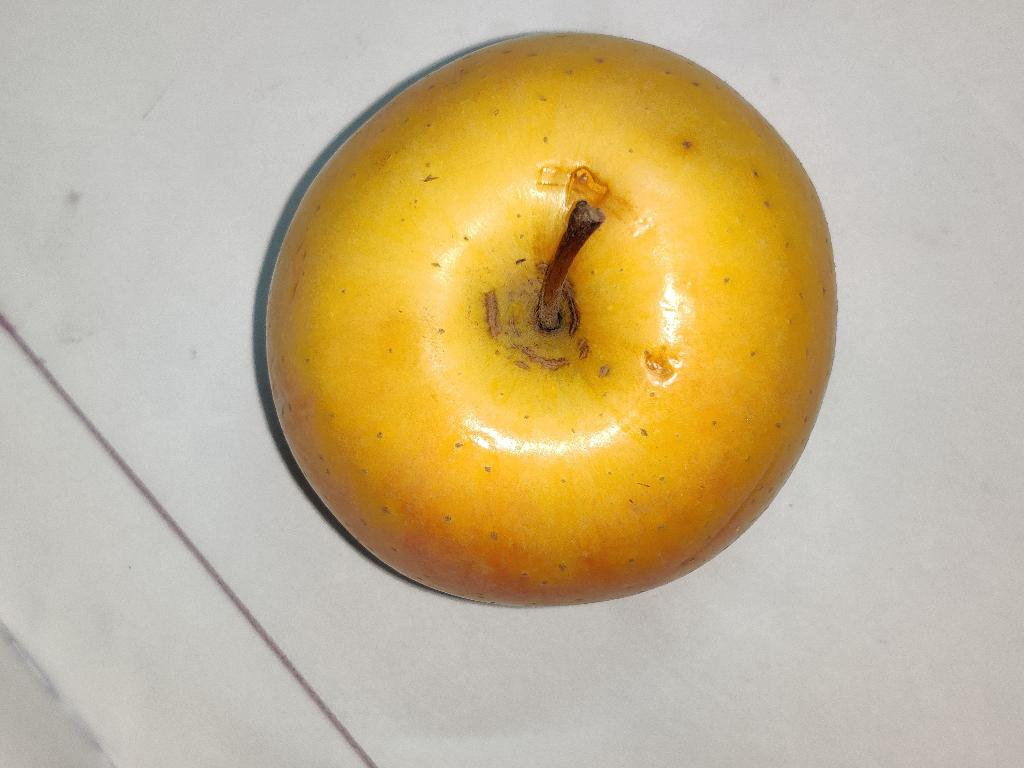apple: (266, 33, 837, 605)
surface_damage: (569, 167, 608, 206), (644, 352, 673, 382)
